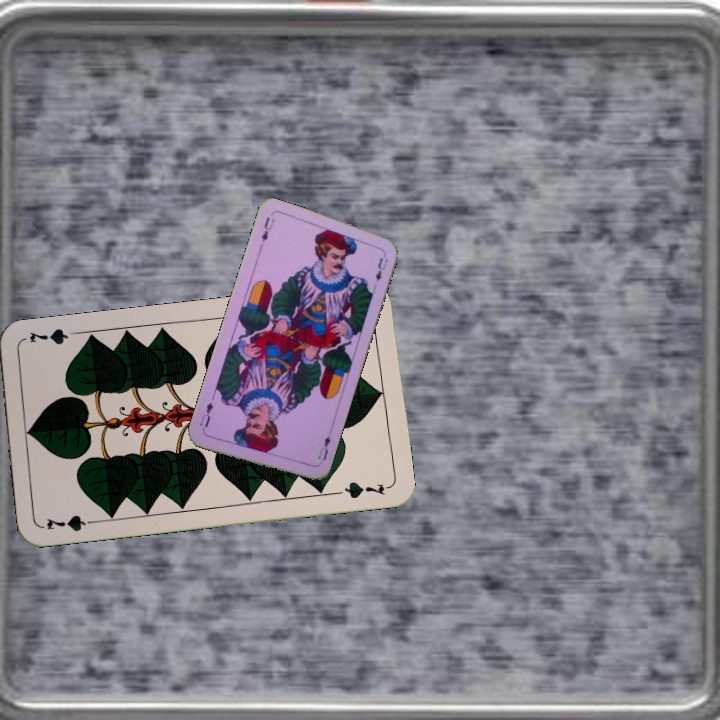EU: (257, 213, 277, 244), (314, 432, 333, 463)
G7: (42, 511, 101, 534)
